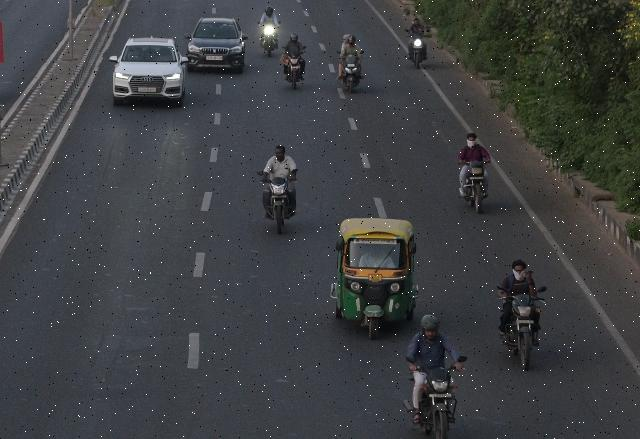With Helmet: (418, 311, 442, 341), (348, 35, 358, 47), (290, 32, 300, 42), (266, 6, 274, 16)
Without Helmet: (510, 260, 528, 280), (464, 131, 480, 148), (274, 143, 286, 159), (342, 32, 350, 44), (414, 18, 421, 26)
